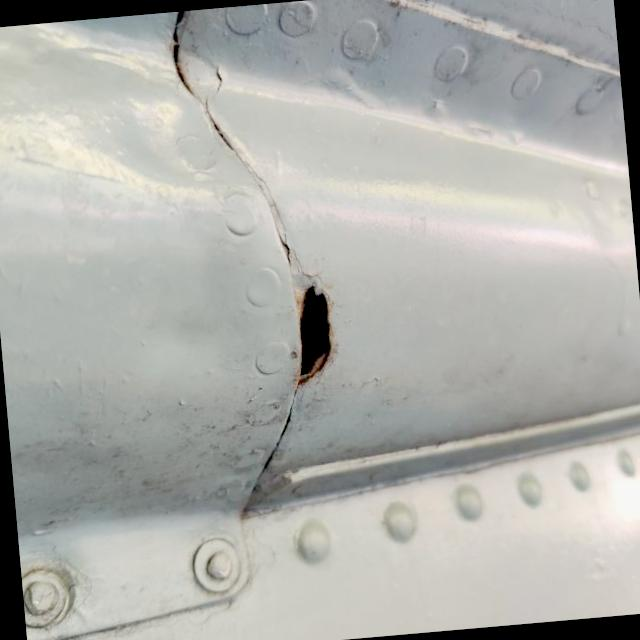crack: (258, 265, 350, 406)
